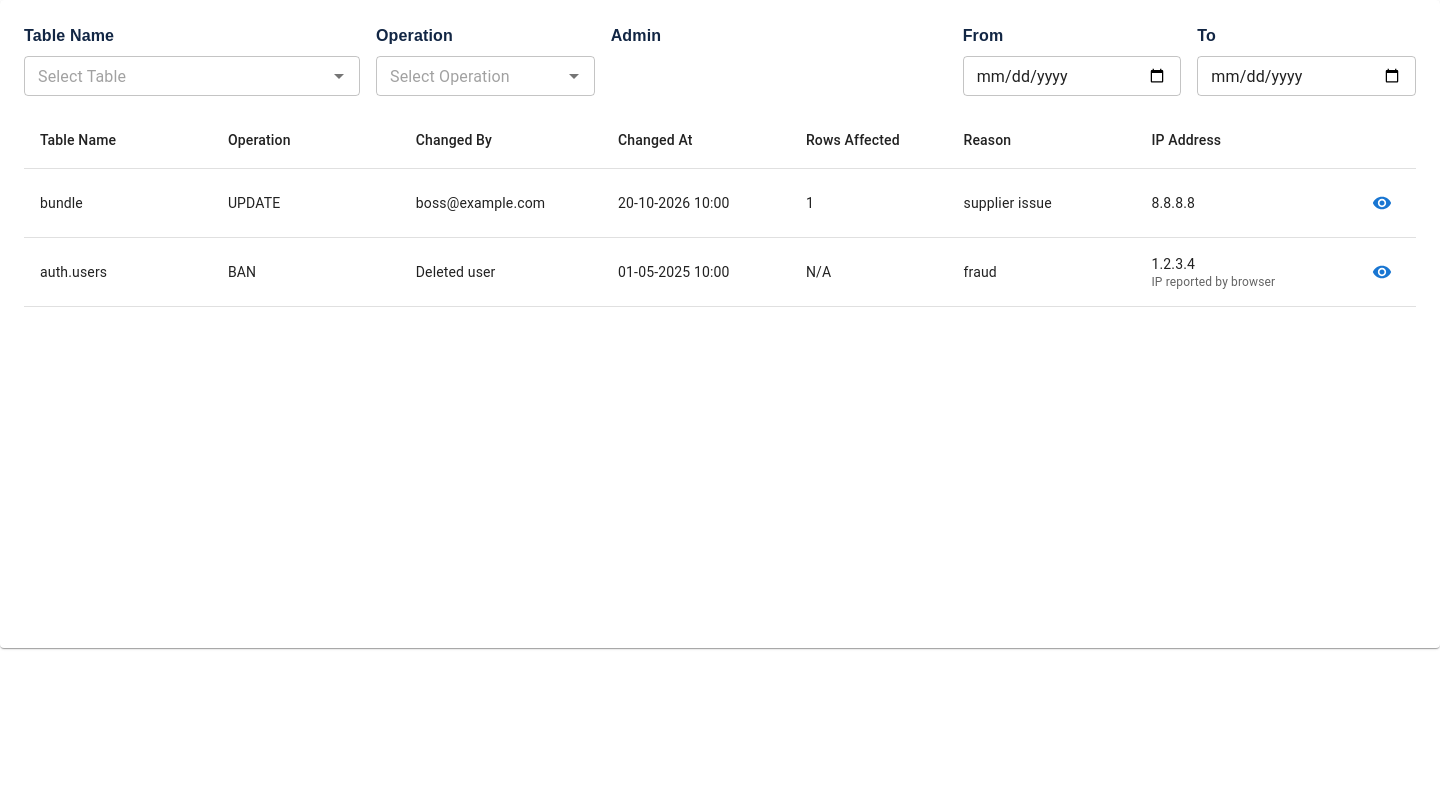
it: Audit log page › the detail is loaded by id and shows old/new data with hidden secrets
Expected: the text "boss@example.com" is shown, [400,168,602,238]
What coordinates should you click on to do the following:
click the button named "view" in the row of "bundle"
I would click on:
 (1382, 203)
Its box is [1364,185,1400,221].
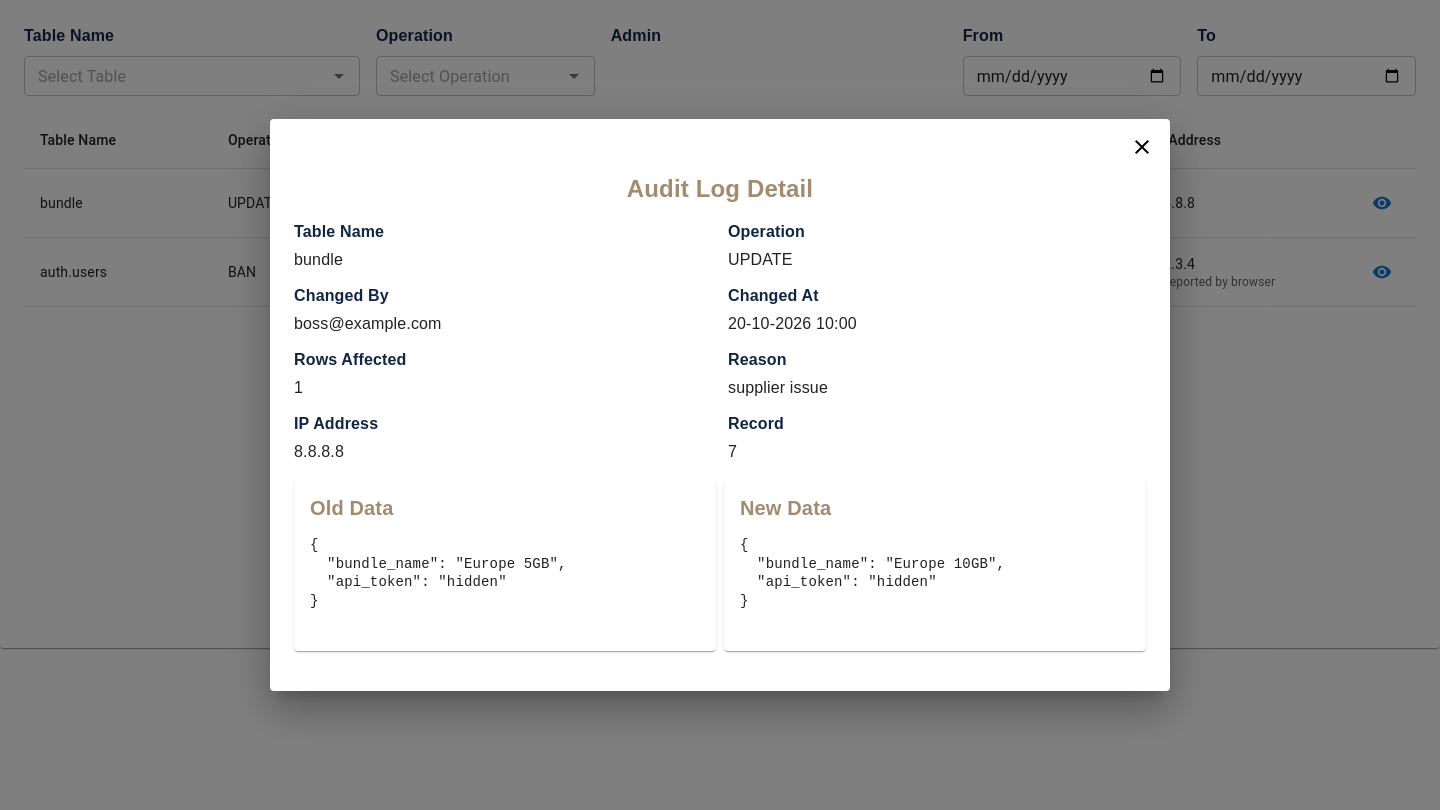
Expected: the heading "Old Data" is shown, [310,497,393,519]
Expected: the text "{ \"bundle_name\": \"Europe 10GB\", \"api_token\": \"hidden\" }" is shown, [740,537,1005,609]
Expected: the text "{ \"bundle_name\": \"Europe 5GB\", \"api_token\": \"hidden\" }" is shown 2 times, [310,537,567,609]; [740,537,1005,609]
